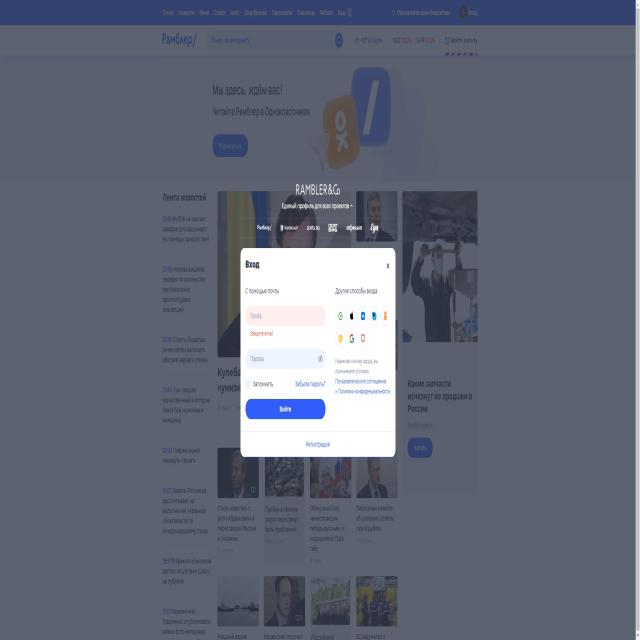menu-bar: (156, 3, 354, 22)
search: (205, 24, 346, 51)
